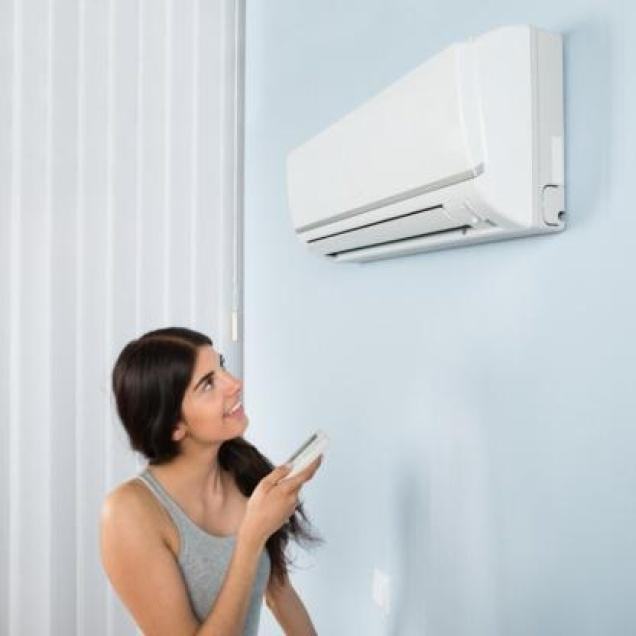AC: (285, 21, 565, 267)
